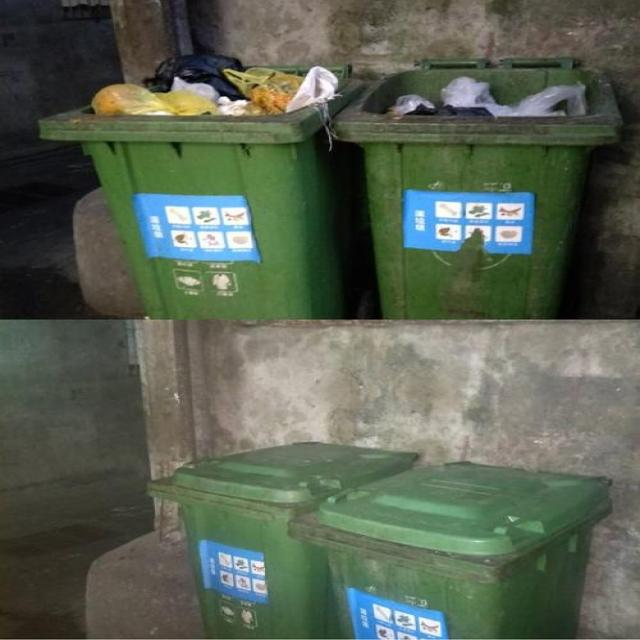garbage_bin: (287, 460, 609, 639), (146, 439, 417, 639)
overflow: (39, 52, 364, 316), (333, 56, 618, 317)
